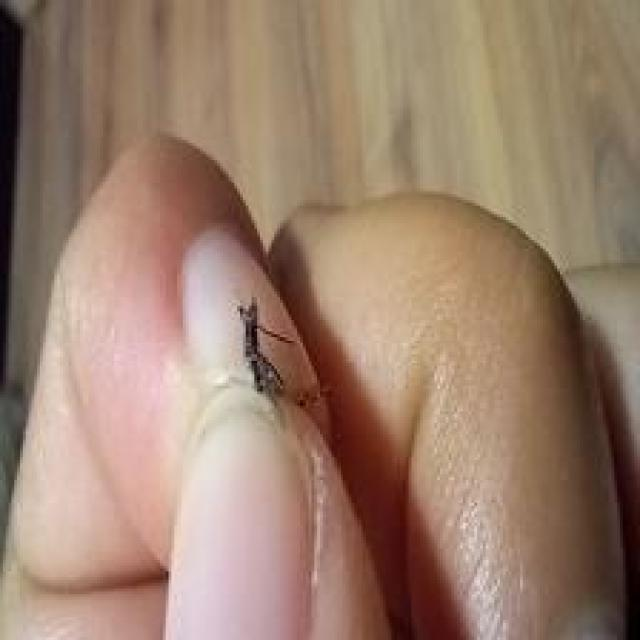Aedes albopictus: (233, 294, 296, 403)
